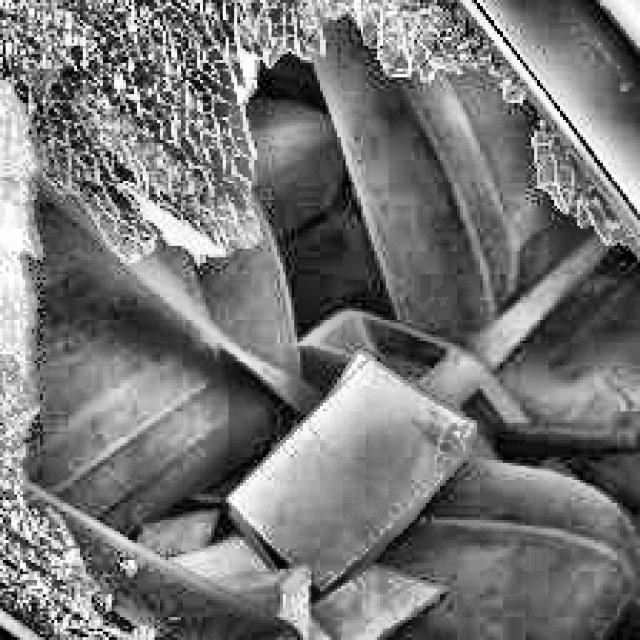glass_shatter: (18, 21, 634, 640)
